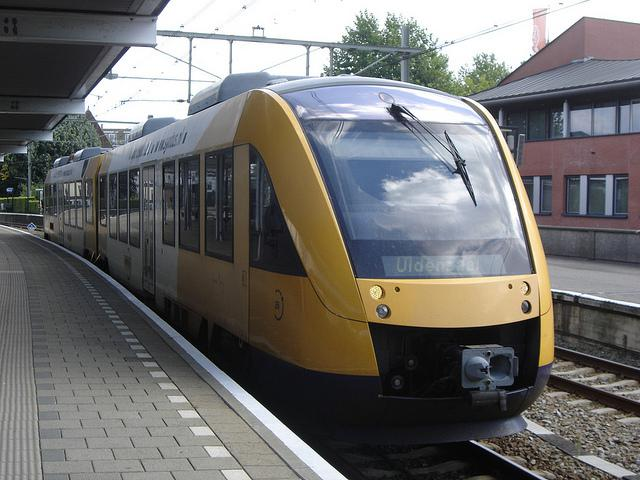Train: (43, 74, 555, 426)
